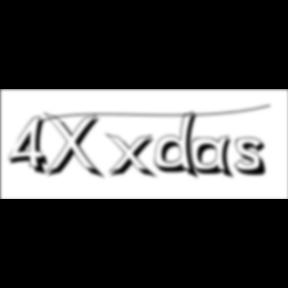4: (8, 115, 55, 179)
X: (43, 112, 107, 182)
a: (191, 135, 239, 182)
d: (154, 110, 204, 182)
s: (234, 137, 274, 179)
x: (106, 132, 161, 181)
